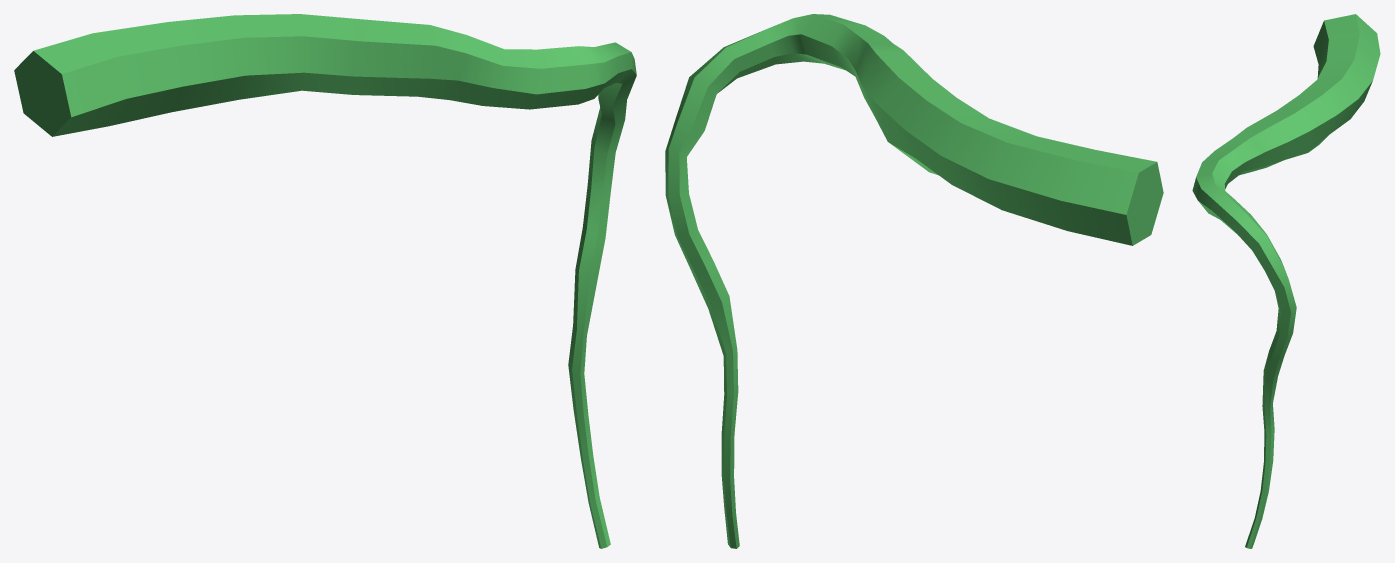
File: roots_solo_A_G.fbx
3 renders of one model, left to right at view 1: azimuth 30°, elevation 25°; view 2: azimuth 150°, elevation 25°; view 3: azimuth 270°, elevation 25°, orthographic. The views are drawn at different scales.
Parts seen in each view (by area): view 1: roots_solo_A_G; view 2: roots_solo_A_G; view 3: roots_solo_A_G.
Part boxes in pixels (<box>): roots_solo_A_G: <box>14,14,636,548</box>; roots_solo_A_G: <box>665,14,1163,548</box>; roots_solo_A_G: <box>1192,14,1380,548</box>.
Bounding box in the file's own units: 133 × 132 × 60.31.
